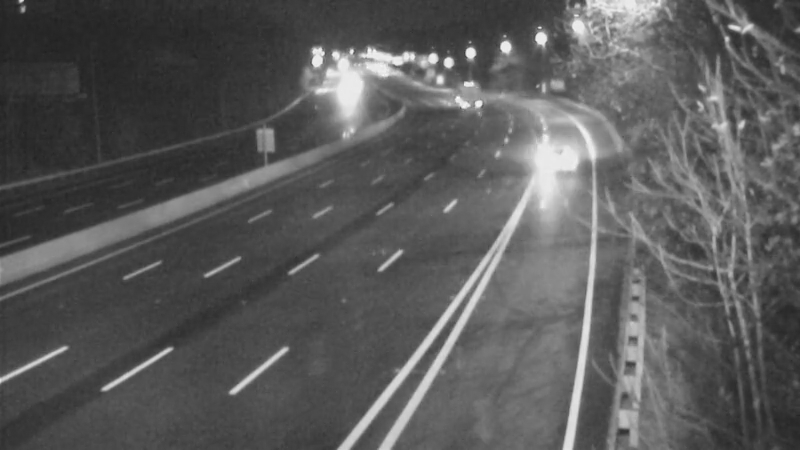vehicle: (516, 118, 596, 198), (432, 67, 482, 117), (324, 64, 374, 114)
